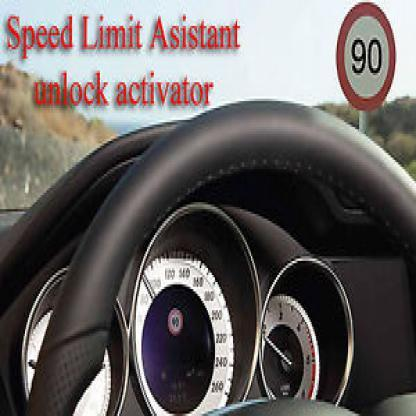Speed Limit 90: (337, 4, 395, 109)
